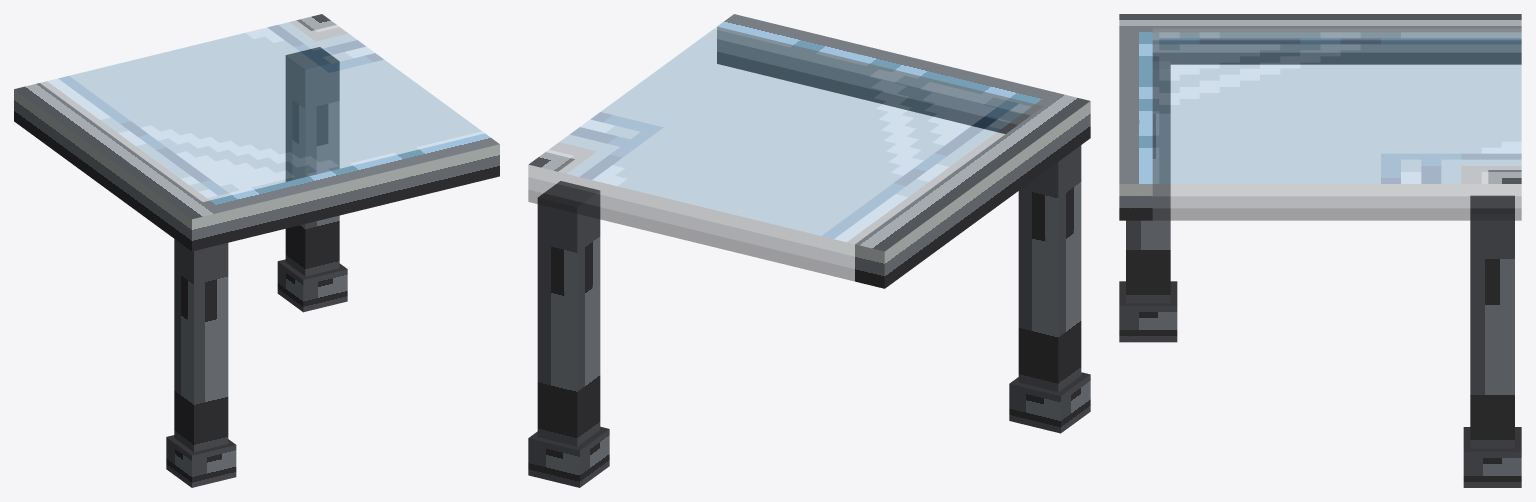
The model's file is framed_glass_table_corner_2legs.glb.
3 renders of one model, left to right at view 1: azimuth 30°, elevation 25°; view 2: azimuth 150°, elevation 25°; view 3: azimuth 270°, elevation 25°, orthographic. The views are drawn at different scales.
Parts seen in each view (by area): view 1: framed_glass_table_corner_2legs; view 2: framed_glass_table_corner_2legs; view 3: framed_glass_table_corner_2legs.
Boxes of the visible parts, box(x1,y1,x2,y2) form: framed_glass_table_corner_2legs: box(14, 14, 499, 487); framed_glass_table_corner_2legs: box(528, 14, 1090, 487); framed_glass_table_corner_2legs: box(1119, 14, 1521, 487).
Size of the model in its own units: 0.9 by 0.7501 by 0.9.
2 materials, 2 textured.
